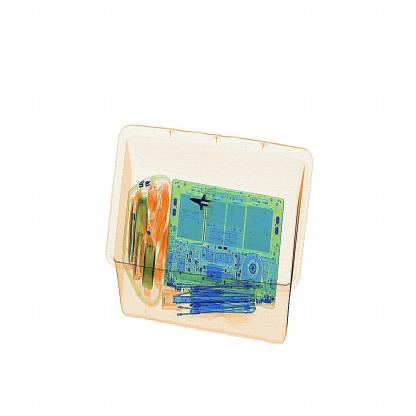gun: (175, 176, 227, 222)
